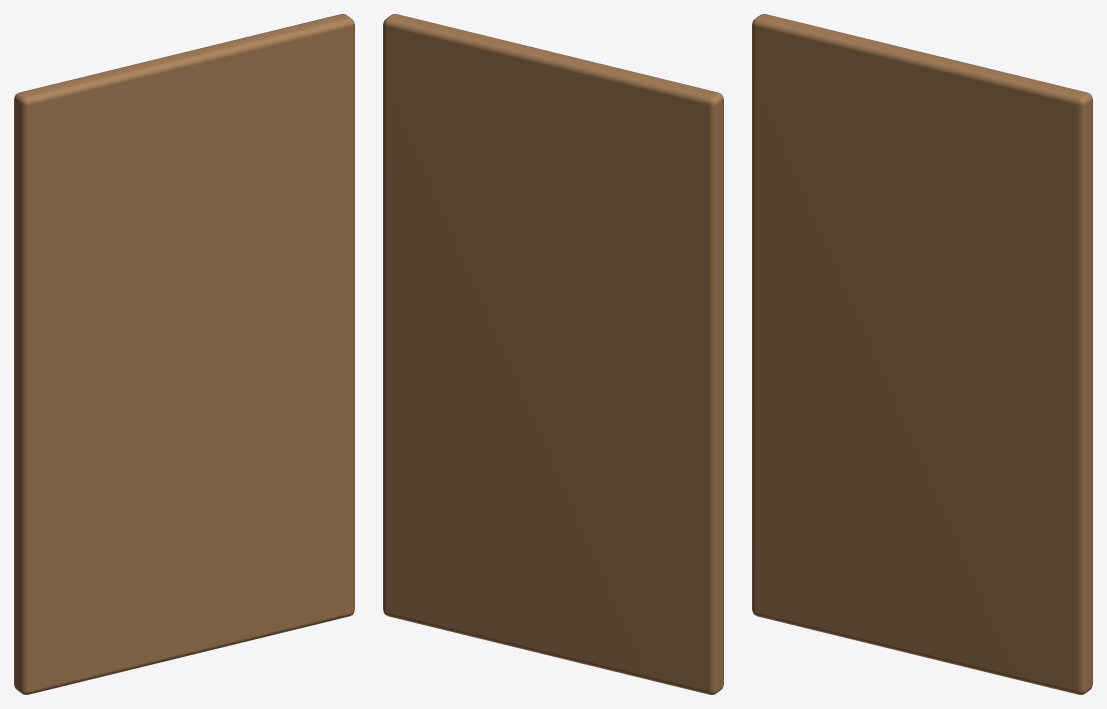
The model's file is SM_EG_Gondola_timber_end_panel_339bf3f095.fbx.
3 renders of one model, left to right at view 1: azimuth 30°, elevation 25°; view 2: azimuth 150°, elevation 25°; view 3: azimuth 330°, elevation 25°, orthographic.
Visible parts, largest first — view 1: SM_EG_Gondola_timber_end_panel_339bf3f095; view 2: SM_EG_Gondola_timber_end_panel_339bf3f095; view 3: SM_EG_Gondola_timber_end_panel_339bf3f095.
Boxes of the visible parts, bbox=[...] form: SM_EG_Gondola_timber_end_panel_339bf3f095: bbox=[14, 14, 354, 694]; SM_EG_Gondola_timber_end_panel_339bf3f095: bbox=[383, 14, 723, 694]; SM_EG_Gondola_timber_end_panel_339bf3f095: bbox=[752, 14, 1092, 694].
Size of what is drawn, in the model's own units: 114 by 7 by 195.
